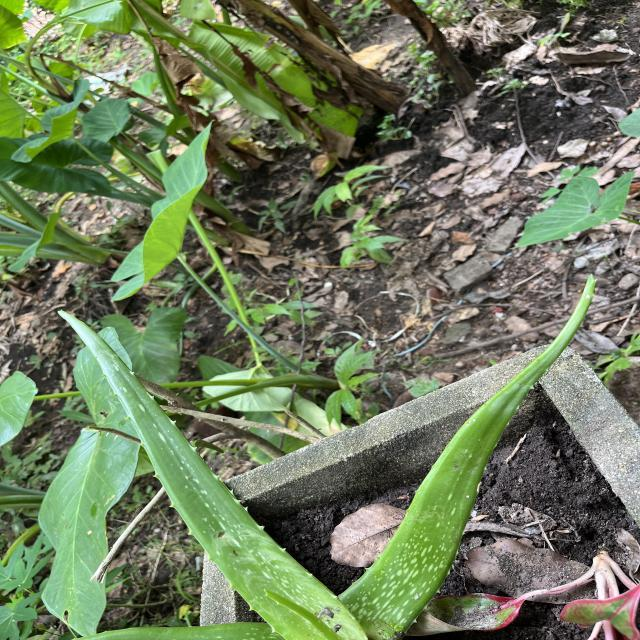Aloe vera: (51, 302, 362, 637), (337, 272, 606, 630)
